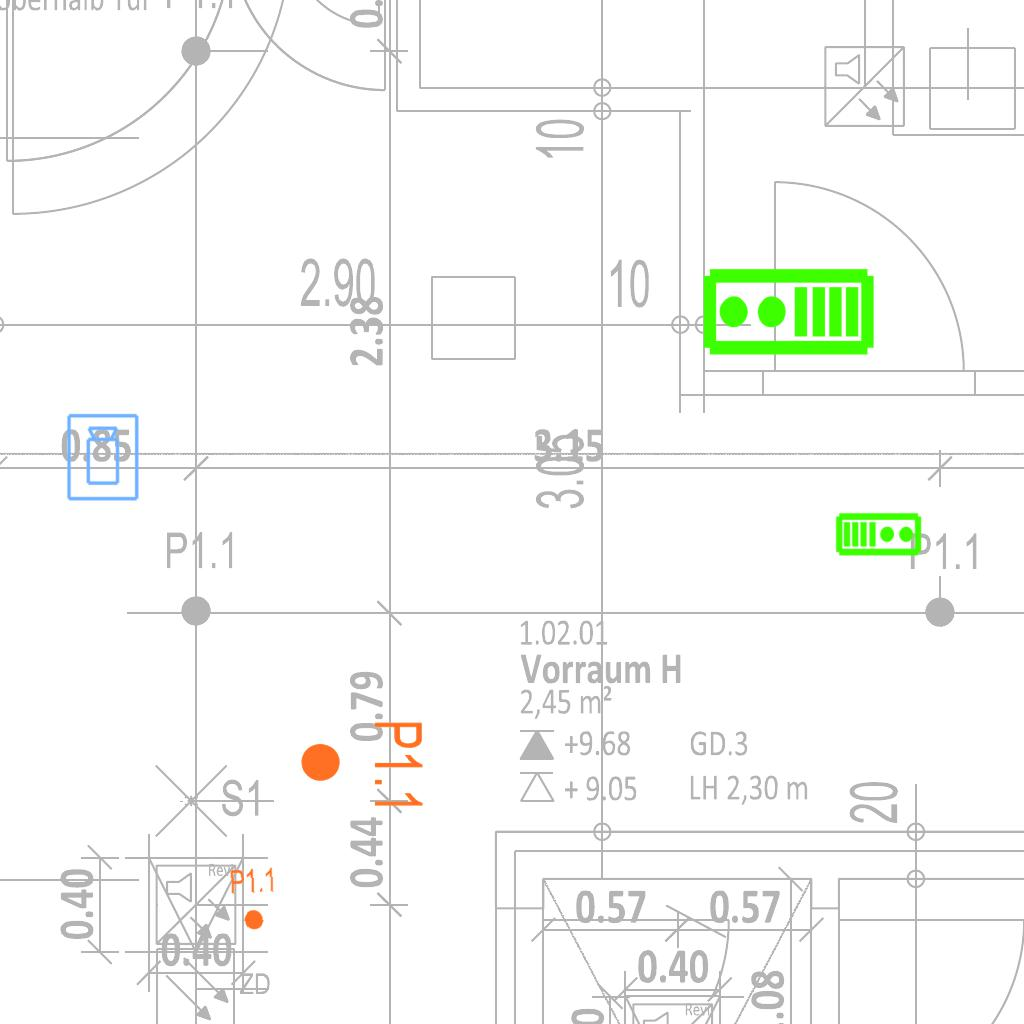Downlight_LED_Einbauleuchten_Flur: (298, 719, 426, 812), (228, 865, 280, 933)
Gegensprechanlage_mit_Video: (700, 266, 876, 361), (835, 510, 923, 557)
KFO_Kamera_mit_Festobjektiv: (65, 412, 142, 503)
